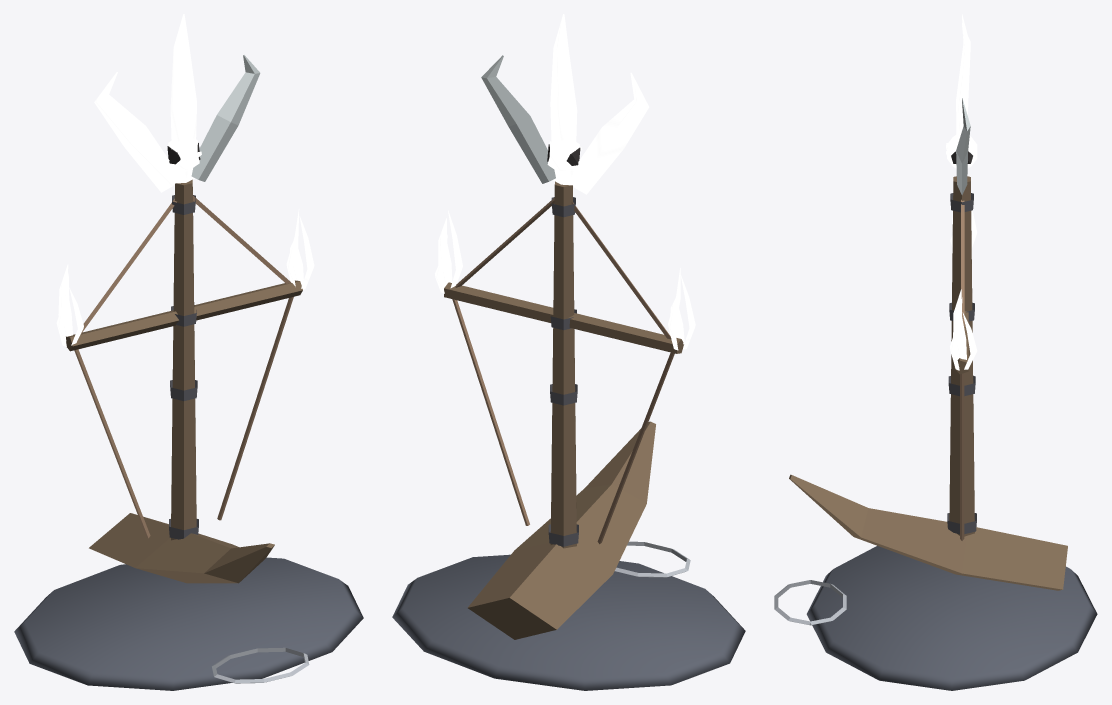
The model's file is ember-mast-fire.glb.
3 renders of one model, left to right at view 1: azimuth 30°, elevation 25°; view 2: azimuth 150°, elevation 25°; view 3: azimuth 270°, elevation 25°, orthographic. The views are drawn at different scales.
Parts seen in each view (by area): view 1: ember_mast_fire; view 2: ember_mast_fire; view 3: ember_mast_fire.
Boxes of the visible parts, bbox=[...] form: ember_mast_fire: bbox=[14, 14, 363, 690]; ember_mast_fire: bbox=[392, 14, 745, 690]; ember_mast_fire: bbox=[774, 14, 1097, 690].
Size of the model in its own units: 0.72 by 1.31 by 0.6394.
